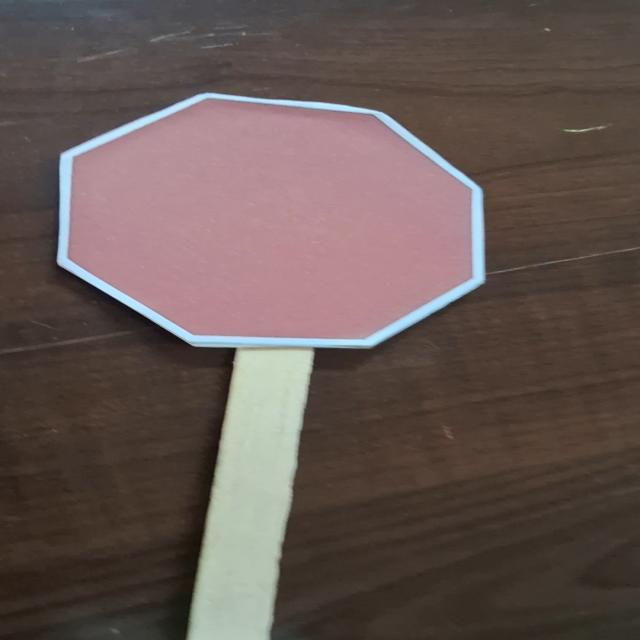Stop: (57, 92, 492, 360)
